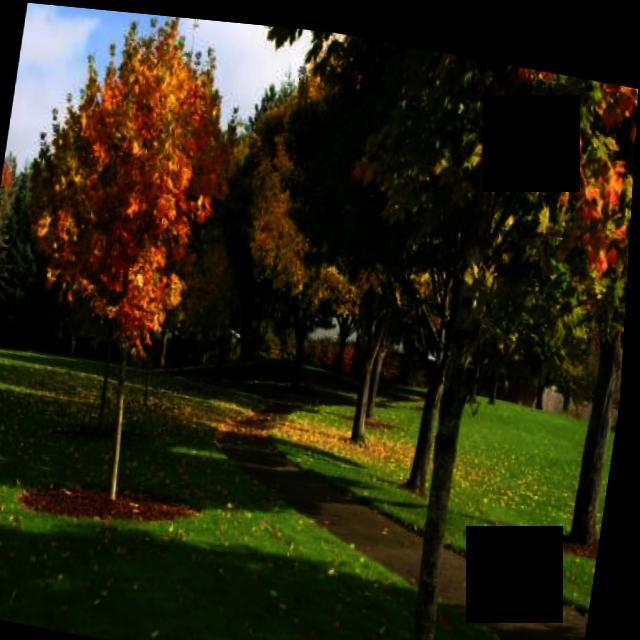tree: (300, 29, 620, 640), (0, 1, 267, 520), (248, 20, 463, 448), (470, 54, 639, 544), (224, 71, 373, 396), (313, 156, 400, 392), (347, 208, 425, 423), (165, 224, 260, 384), (0, 145, 62, 351)
